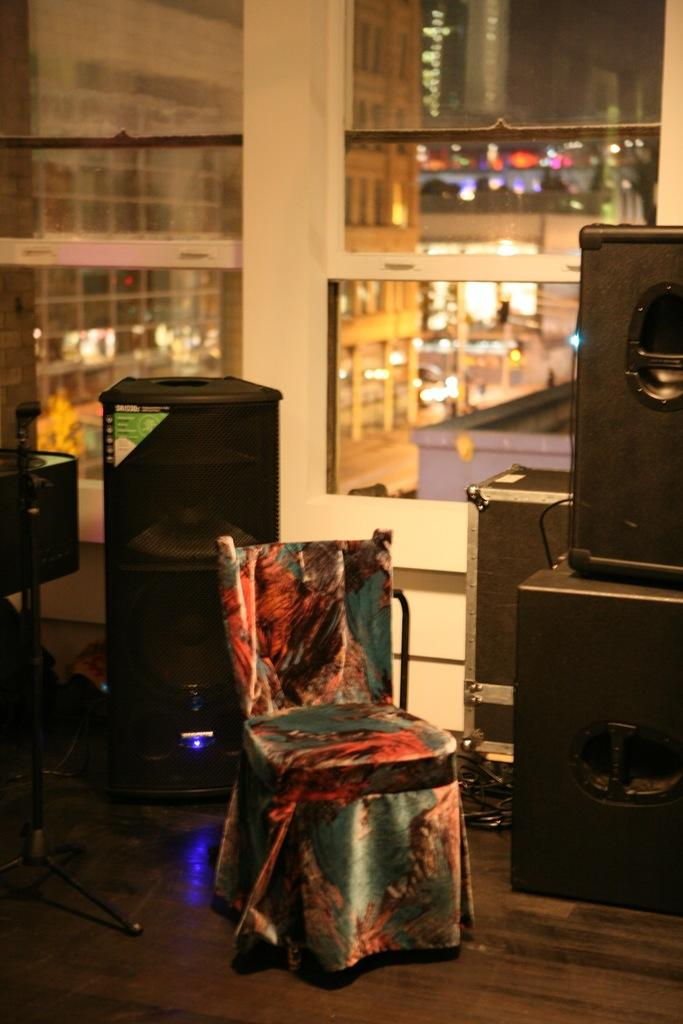Chair: (197, 553, 484, 973)
